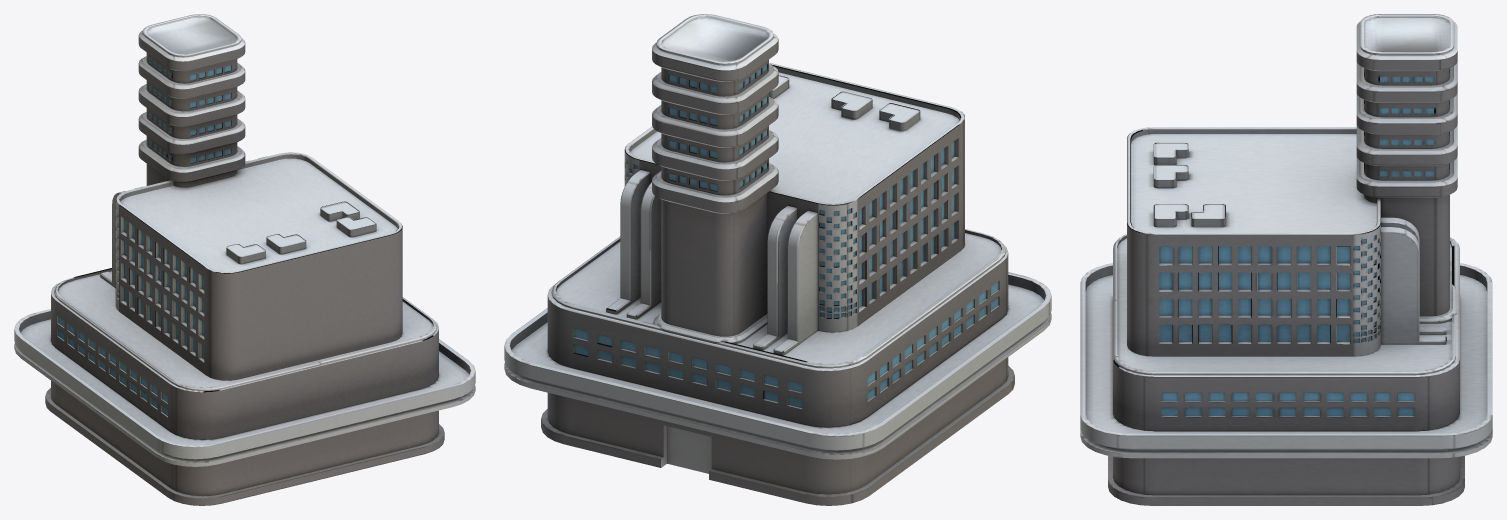
Rendered from Castle_c.gltf.
The picture shows the model from 3 angles, left to right: view 1: azimuth 30°, elevation 25°; view 2: azimuth 150°, elevation 25°; view 3: azimuth 270°, elevation 25°; orthographic projection. The views are drawn at different scales.
Visible parts, largest first — view 1: blok_4.002; view 2: blok_4.002; view 3: blok_4.002.
Boxes of the visible parts, x1,y1,x2,y2 form: blok_4.002: [14, 14, 475, 505]; blok_4.002: [504, 14, 1051, 505]; blok_4.002: [1080, 14, 1492, 505].
Bounding box in the file's own units: 24.38 × 25.87 × 24.38.
Materials: 3 (3 with a texture image).
